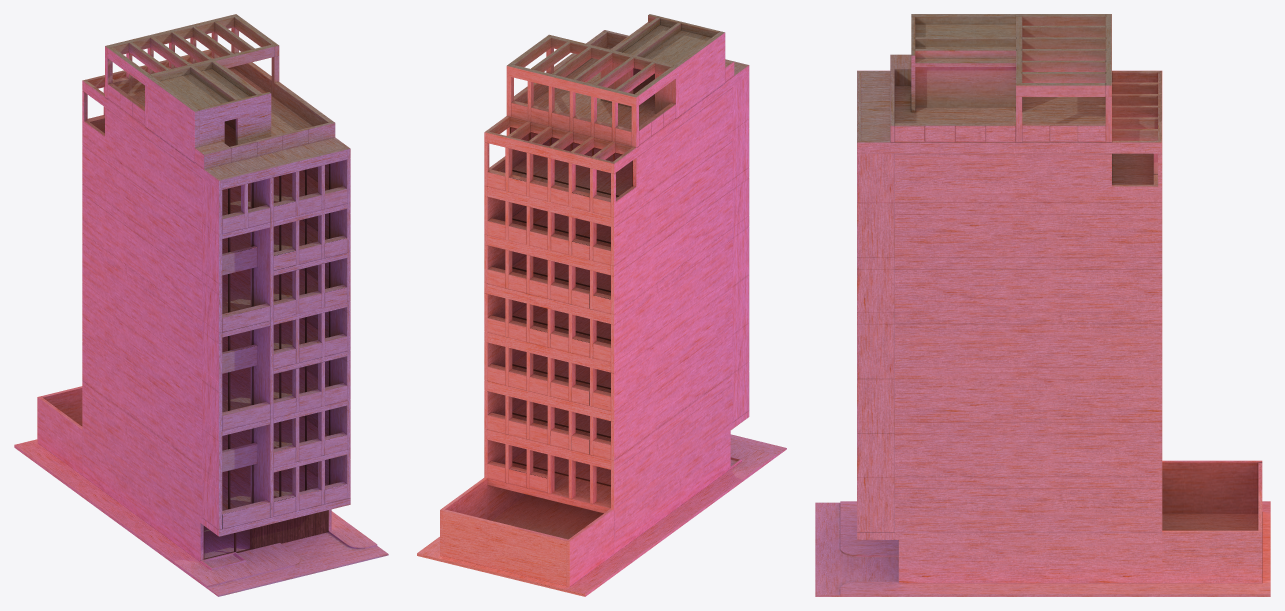
The model's file is CuatroCuartos_compressed.glb.
3 renders of one model, left to right at view 1: azimuth 30°, elevation 25°; view 2: azimuth 150°, elevation 25°; view 3: azimuth 270°, elevation 25°, orthographic. The views are drawn at different scales.
Visible parts, largest first — view 1: HQ_01, HQ_02, HQ_03, LQ_01; view 2: HQ_01, HQ_02, HQ_03, LQ_01; view 3: HQ_01, HQ_02, HQ_03, LQ_01.
Part boxes in pixels (x1,y1,x2,y2): HQ_01: (37,49,350,561); HQ_02: (87,14,347,570); HQ_03: (43,28,344,510); LQ_01: (14,164,388,596); HQ_01: (440,31,749,586); HQ_02: (487,17,741,513); HQ_03: (445,14,743,520); LQ_01: (417,127,786,596); HQ_01: (857,55,1262,583); HQ_02: (915,14,1157,184); HQ_03: (861,14,1261,513); LQ_01: (815,501,1270,596).
Size of the model in its own units: 2.63 by 6.62 by 5.45.
Materials: 4 (4 with a texture image).
